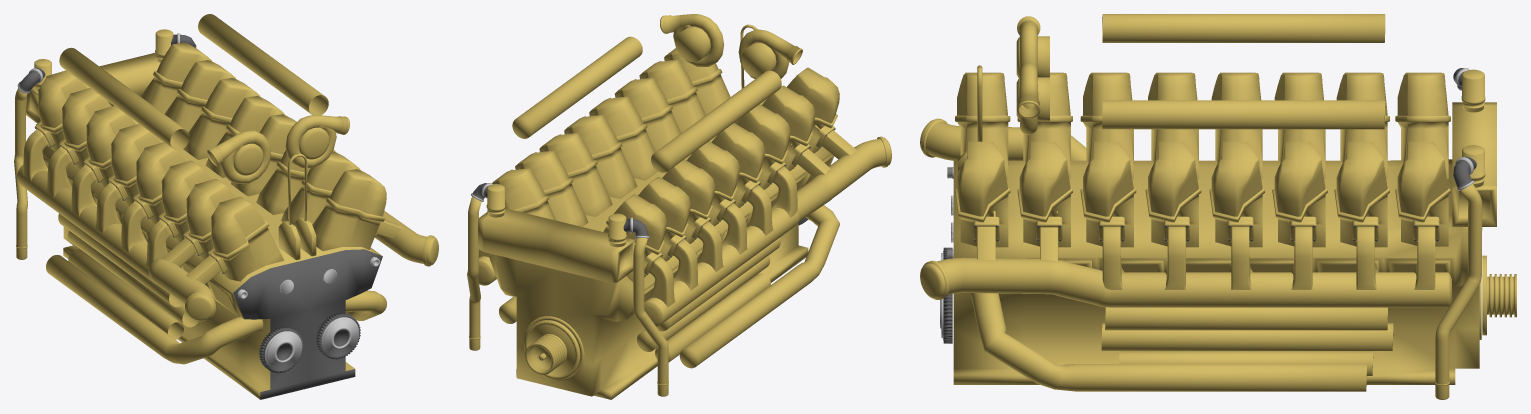
Rendered from Caterpillar_793-F_Motor.glb.
The picture shows the model from 3 angles, left to right: view 1: azimuth 30°, elevation 25°; view 2: azimuth 150°, elevation 25°; view 3: azimuth 270°, elevation 25°; orthographic projection. The views are drawn at different scales.
Visible parts, largest first — view 1: Cube; view 2: Cube; view 3: Cube.
Part boxes in pixels (x1,y1,x2,y2): Cube: (14,14,438,399); Cube: (467,14,891,399); Cube: (920,14,1516,399).
Size of the model in its own units: 156 by 144 by 252.
